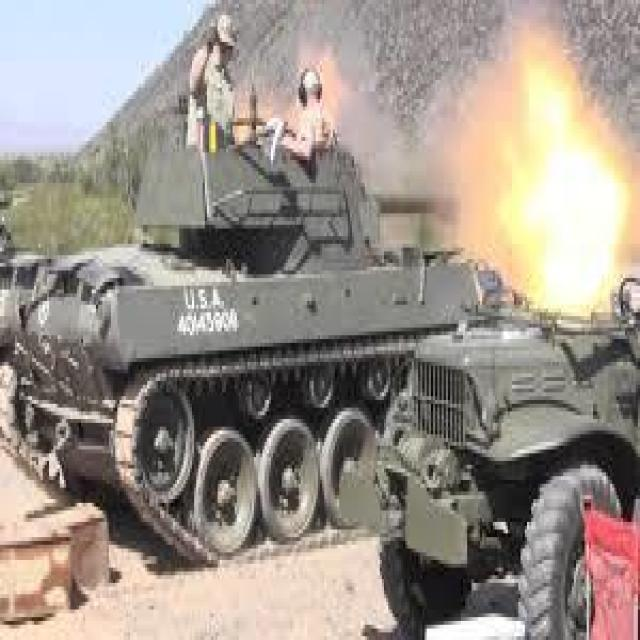Tanks: (13, 105, 518, 550)
